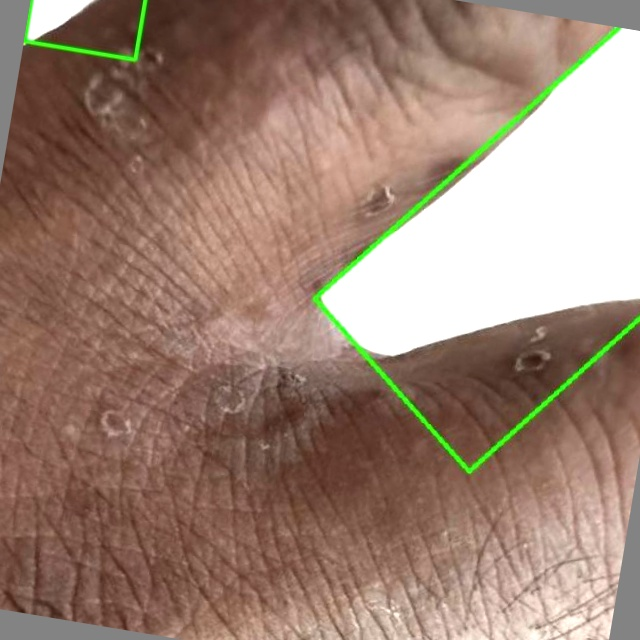Scabies: (282, 8, 639, 471)
